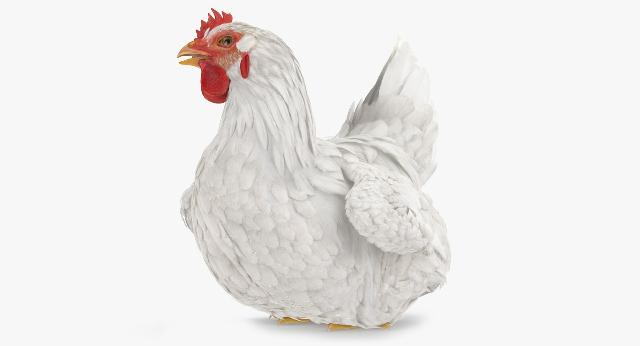Chicken: (177, 7, 453, 332)
